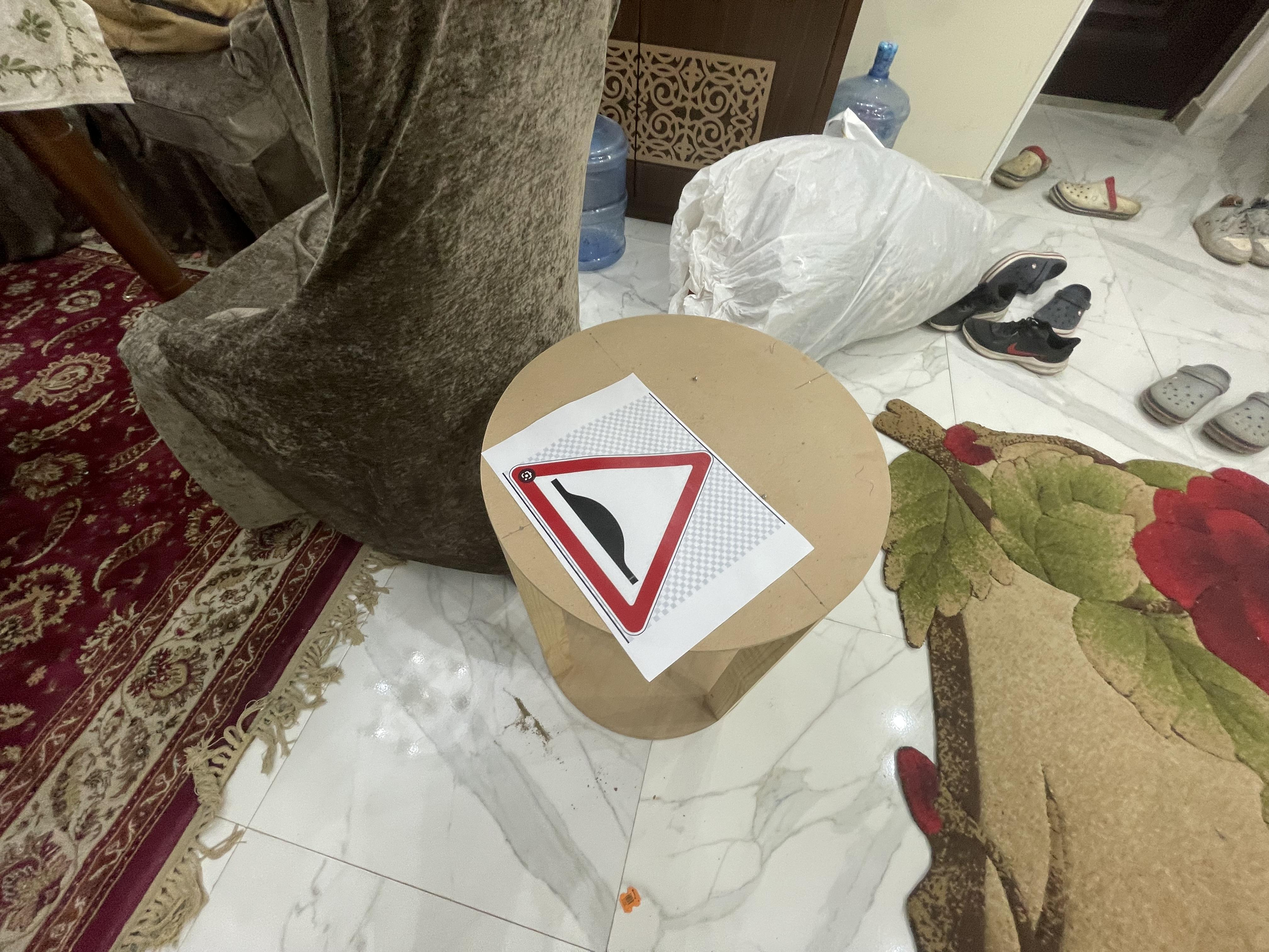Hump: (412, 385, 706, 538)
